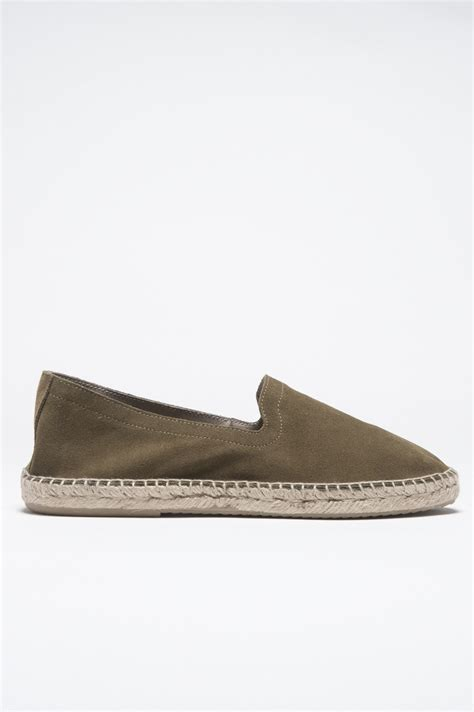gamuza: (24, 370, 449, 480)
